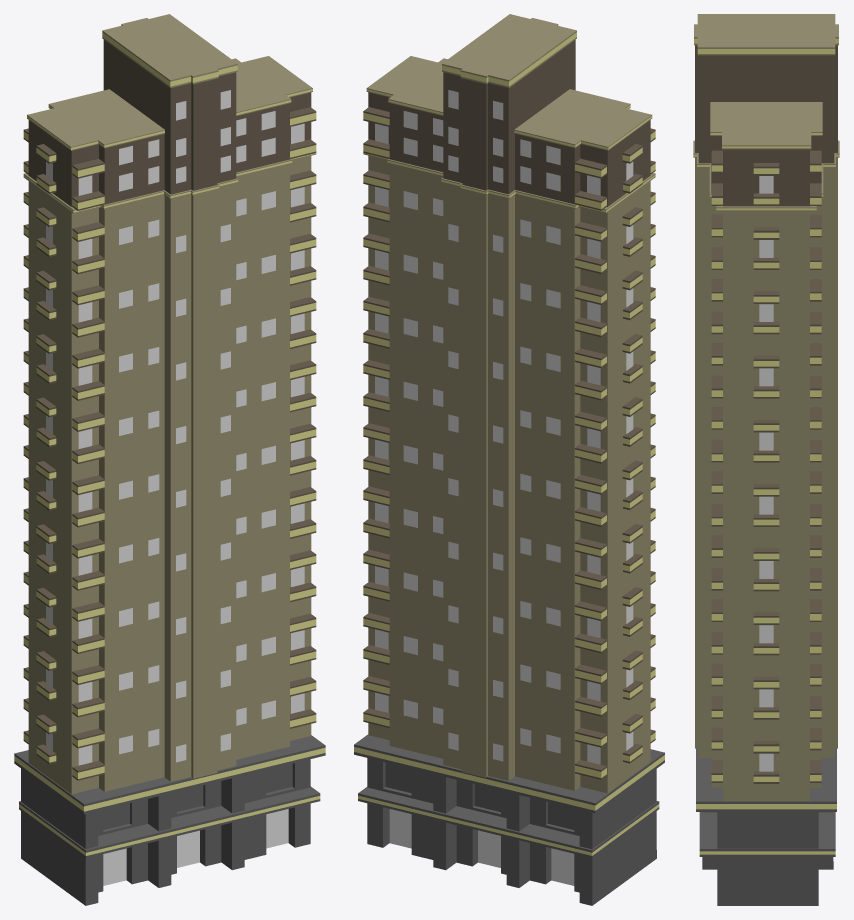
File: YQ_Lou03_01.fbx
3 views of the same model, side by side, from view 1: azimuth 30°, elevation 25°; view 2: azimuth 150°, elevation 25°; view 3: azimuth 270°, elevation 25° (orthographic).
Visible parts, largest first — view 1: YQ_Lou03_zhuti_01, YQ_Lou03_zhuti_02, YQ_Lou03_boli, YQ_Lou03_zhuti_up, YQ_Lou03_diji_04, YQ_Lou03_diji_01, YQ_Lou03_diji_03, YQ_Lou03_diji_02; view 2: YQ_Lou03_zhuti_01, YQ_Lou03_zhuti_02, YQ_Lou03_boli, YQ_Lou03_zhuti_up, YQ_Lou03_diji_04, YQ_Lou03_diji_01, YQ_Lou03_diji_03, YQ_Lou03_diji_02; view 3: YQ_Lou03_zhuti_01, YQ_Lou03_zhuti_02, YQ_Lou03_zhuti_up, YQ_Lou03_diji_04, YQ_Lou03_diji_02, YQ_Lou03_diji_03, YQ_Lou03_boli, YQ_Lou03_diji_01.
Boxes of the visible parts, <box> form: YQ_Lou03_zhuti_01: <box>28,156,311,794</box>; YQ_Lou03_zhuti_02: <box>23,107,316,780</box>; YQ_Lou03_boli: <box>46,90,304,885</box>; YQ_Lou03_zhuti_up: <box>28,40,311,206</box>; YQ_Lou03_diji_04: <box>23,14,316,213</box>; YQ_Lou03_diji_01: <box>21,768,244,905</box>; YQ_Lou03_diji_03: <box>14,735,325,858</box>; YQ_Lou03_diji_02: <box>98,759,310,892</box>; YQ_Lou03_zhuti_01: <box>368,155,650,793</box>; YQ_Lou03_zhuti_02: <box>363,107,655,779</box>; YQ_Lou03_boli: <box>375,90,633,885</box>; YQ_Lou03_zhuti_up: <box>368,40,650,206</box>; YQ_Lou03_diji_04: <box>363,14,655,213</box>; YQ_Lou03_diji_01: <box>433,769,656,905</box>; YQ_Lou03_diji_03: <box>354,734,664,857</box>; YQ_Lou03_diji_02: <box>367,758,579,892</box>; YQ_Lou03_zhuti_01: <box>695,157,837,801</box>; YQ_Lou03_zhuti_02: <box>711,150,821,783</box>; YQ_Lou03_zhuti_up: <box>695,45,837,206</box>; YQ_Lou03_diji_04: <box>693,14,839,210</box>; YQ_Lou03_diji_02: <box>717,812,818,905</box>; YQ_Lou03_diji_03: <box>696,748,836,856</box>; YQ_Lou03_boli: <box>759,176,773,771</box>; YQ_Lou03_diji_01: <box>702,812,833,869</box>.
Bounding box in the file's own units: 2319 × 7038 × 1140.
